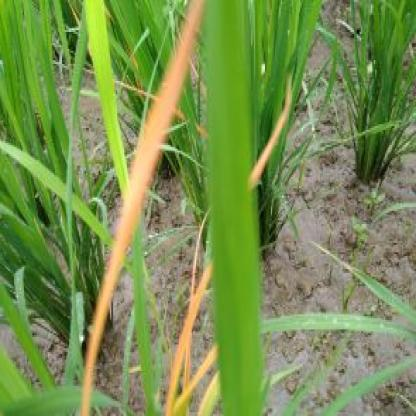Tungro: (85, 8, 182, 392)
